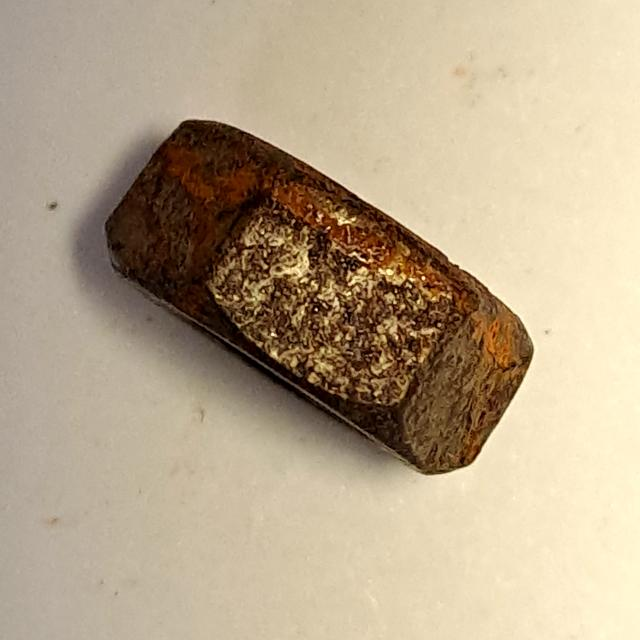Side_Rust: (96, 111, 545, 486)
